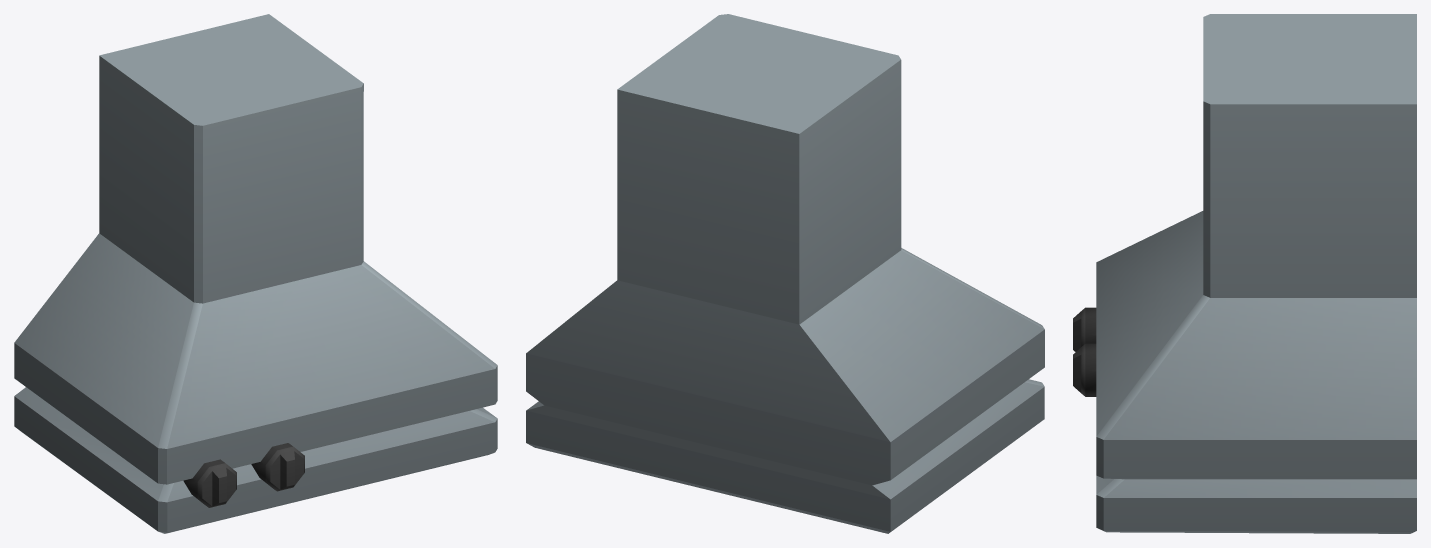
File: extractorhood.obj
3 views of the same model, side by side, from view 1: azimuth 30°, elevation 25°; view 2: azimuth 150°, elevation 25°; view 3: azimuth 270°, elevation 25° (orthographic). The views are drawn at different scales.
Parts seen in each view (by area): view 1: extractorhood_Cube.279; view 2: extractorhood_Cube.279; view 3: extractorhood_Cube.279.
Boxes of the visible parts, x1,y1,x2,y2 form: extractorhood_Cube.279: (14, 14, 497, 533); extractorhood_Cube.279: (526, 14, 1044, 533); extractorhood_Cube.279: (1073, 14, 1416, 533).
Bounding box in the file's own units: 2 × 2 × 1.61.
1 material, 1 textured.
